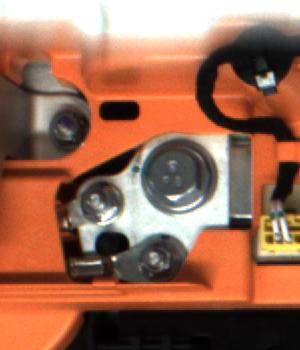nut_b: (137, 137, 216, 212)
